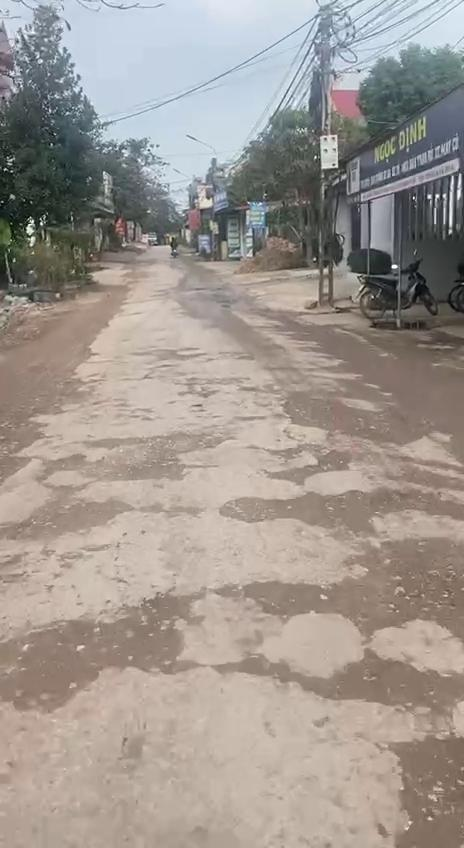pothole: (213, 529, 464, 651), (0, 588, 198, 710), (204, 646, 464, 714), (0, 428, 236, 488), (210, 485, 464, 531), (278, 388, 460, 445), (384, 723, 464, 848), (0, 494, 136, 556), (257, 440, 353, 492), (28, 377, 84, 417), (138, 347, 200, 364)
